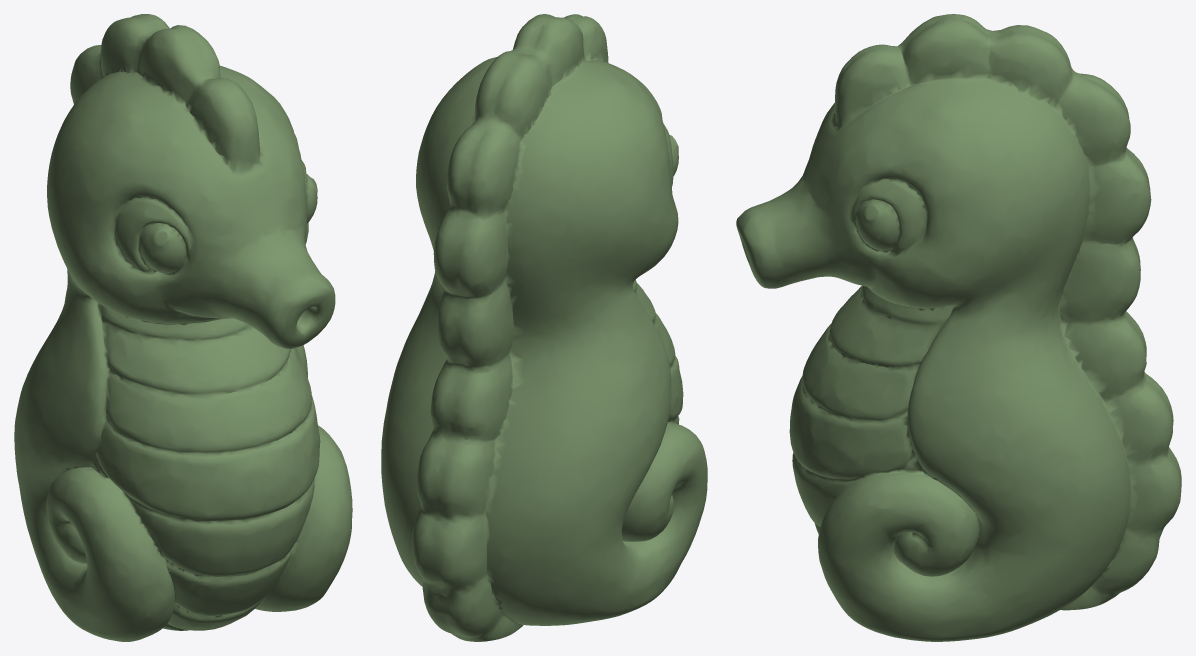
Rendered from seahorse-friend.glb.
The picture shows the model from 3 angles, left to right: view 1: azimuth 30°, elevation 25°; view 2: azimuth 150°, elevation 25°; view 3: azimuth 270°, elevation 25°; orthographic projection.
Visible parts, largest first — view 1: tripo_printable_source; view 2: tripo_printable_source; view 3: tripo_printable_source.
Boxes of the visible parts, box(x1,y1,x2,y2) form: tripo_printable_source: box(14, 14, 352, 641); tripo_printable_source: box(381, 14, 707, 641); tripo_printable_source: box(736, 14, 1181, 641).
Size of the model in its own units: 47.25 by 100 by 70.
